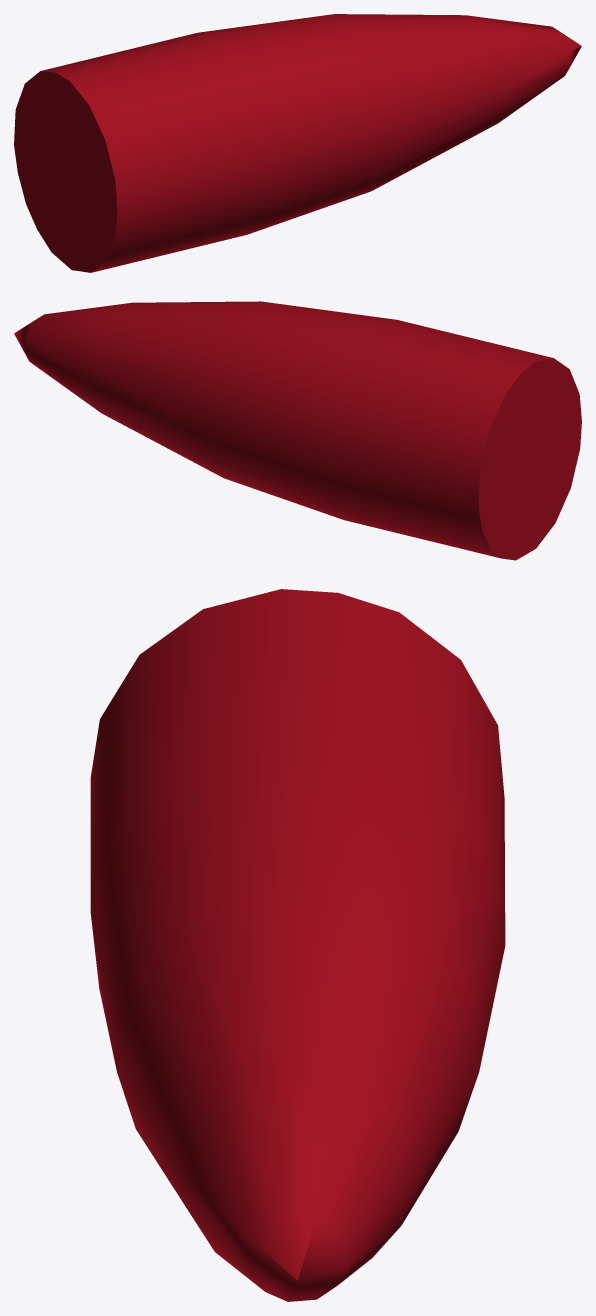
The model's file is bala_materia_vermelha.obj.
3 renders of one model, top to bottom at view 1: azimuth 30°, elevation 25°; view 2: azimuth 150°, elevation 25°; view 3: azimuth 270°, elevation 25°, orthographic. The views are drawn at different scales.
Size of the model in its own units: 0.0656 by 0.0228 by 0.0228.
